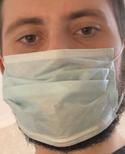with_mask: (1, 2, 125, 154)
